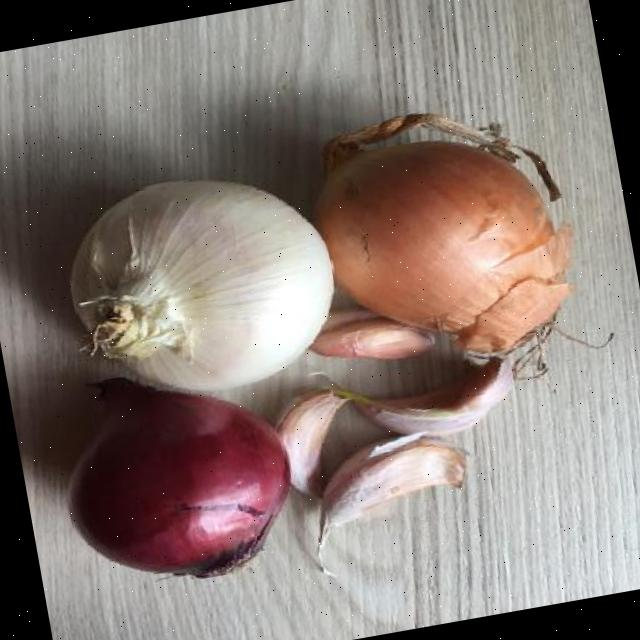Onion: (71, 379, 285, 574)
